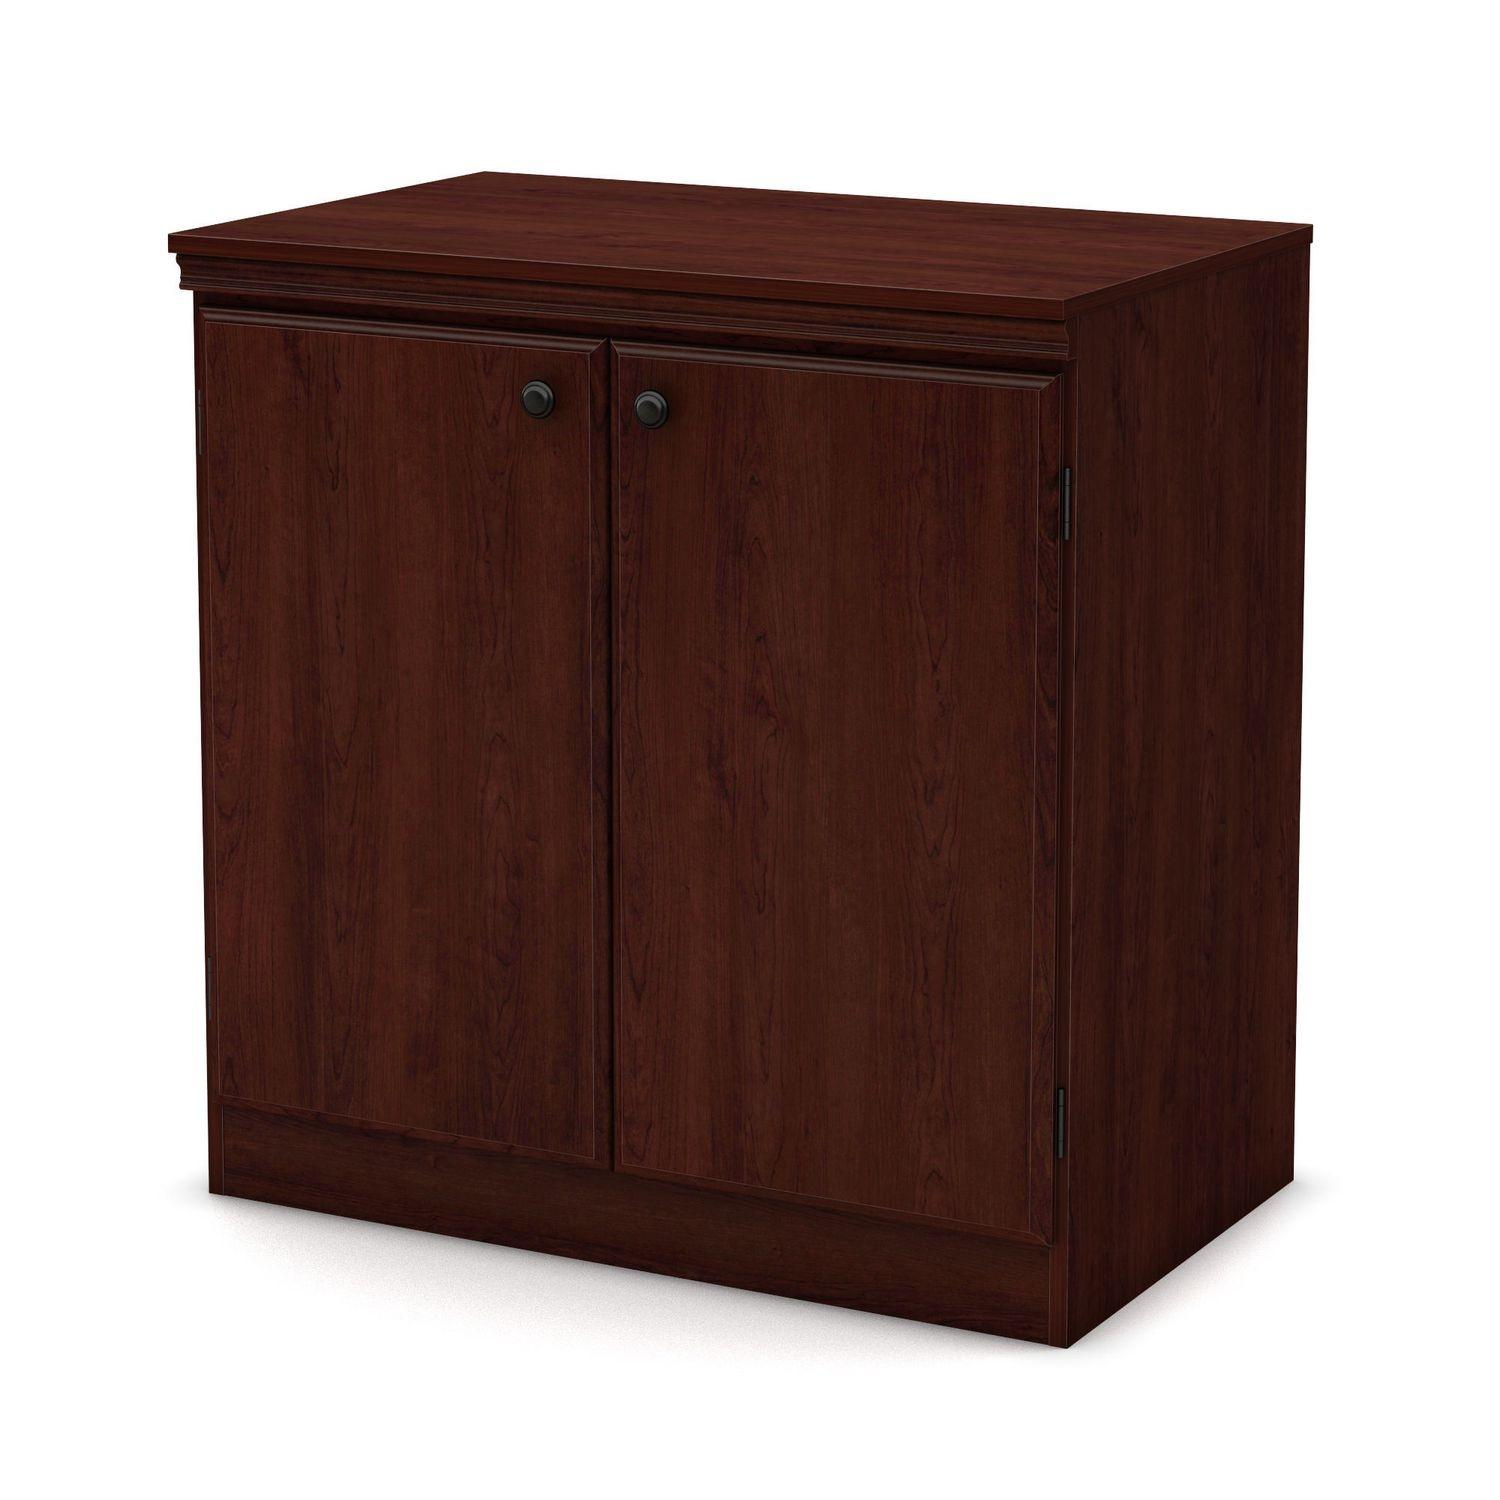cabinet_door: (610, 356, 1051, 1150), (207, 338, 599, 1102)
handle: (511, 372, 565, 434), (628, 383, 680, 444)
